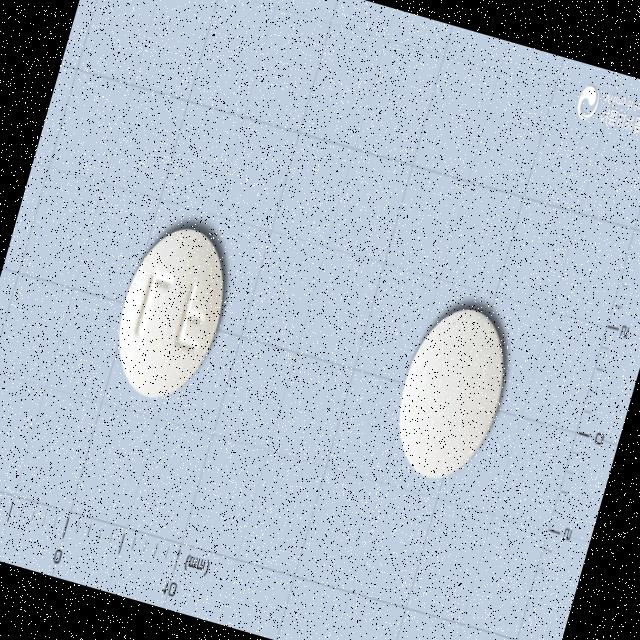Levofloxacin Tab- Withus: (379, 296, 522, 494), (100, 215, 241, 411)
